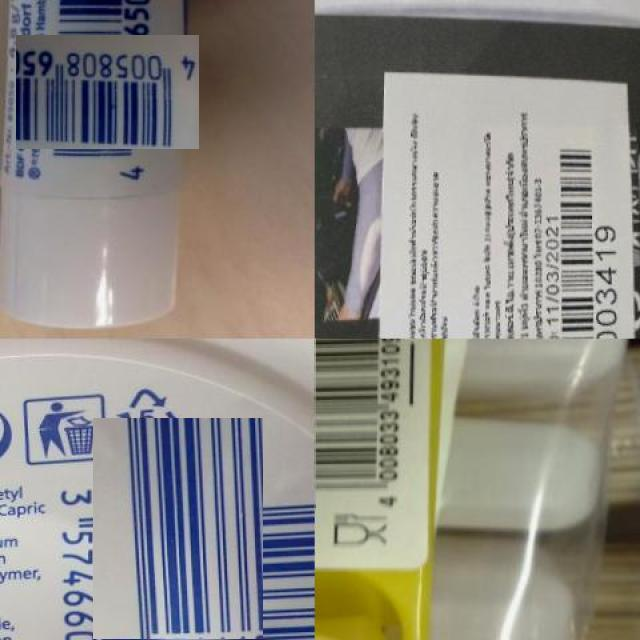Barcode: (68, 443, 290, 640), (33, 17, 183, 166), (314, 338, 422, 511), (548, 129, 624, 339)
